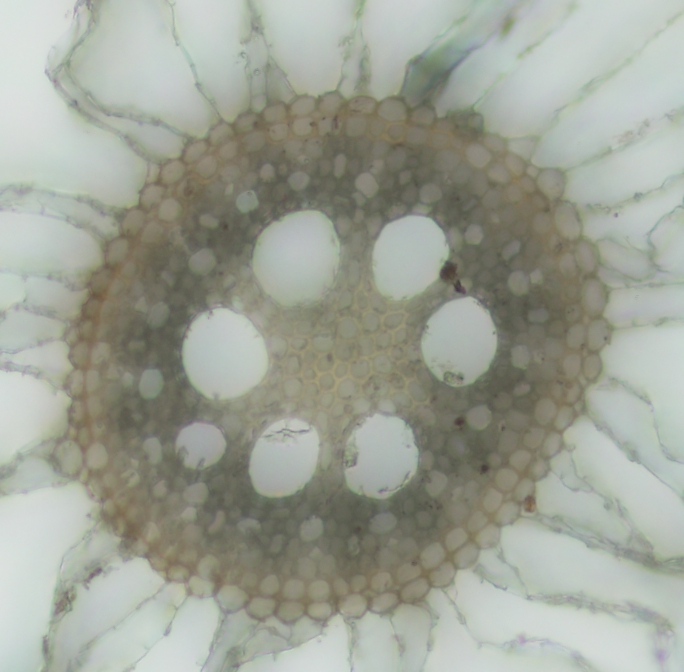lm: (251, 208, 342, 308), (180, 306, 268, 398), (420, 294, 498, 388), (342, 412, 421, 500), (371, 213, 449, 300), (248, 416, 321, 497), (173, 420, 226, 471)
